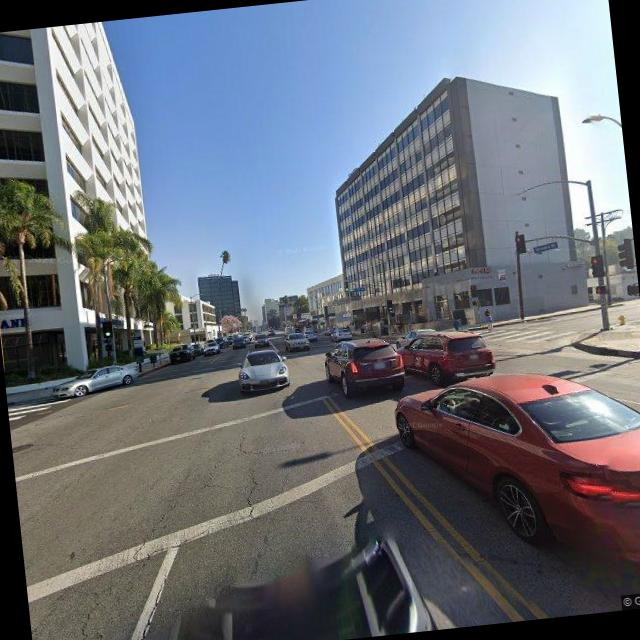pothole: (125, 555, 178, 640), (240, 468, 262, 522), (230, 420, 250, 455)
